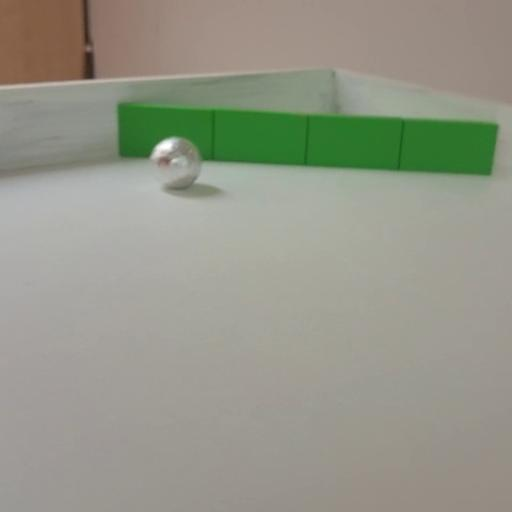alive: (148, 134, 204, 192)
